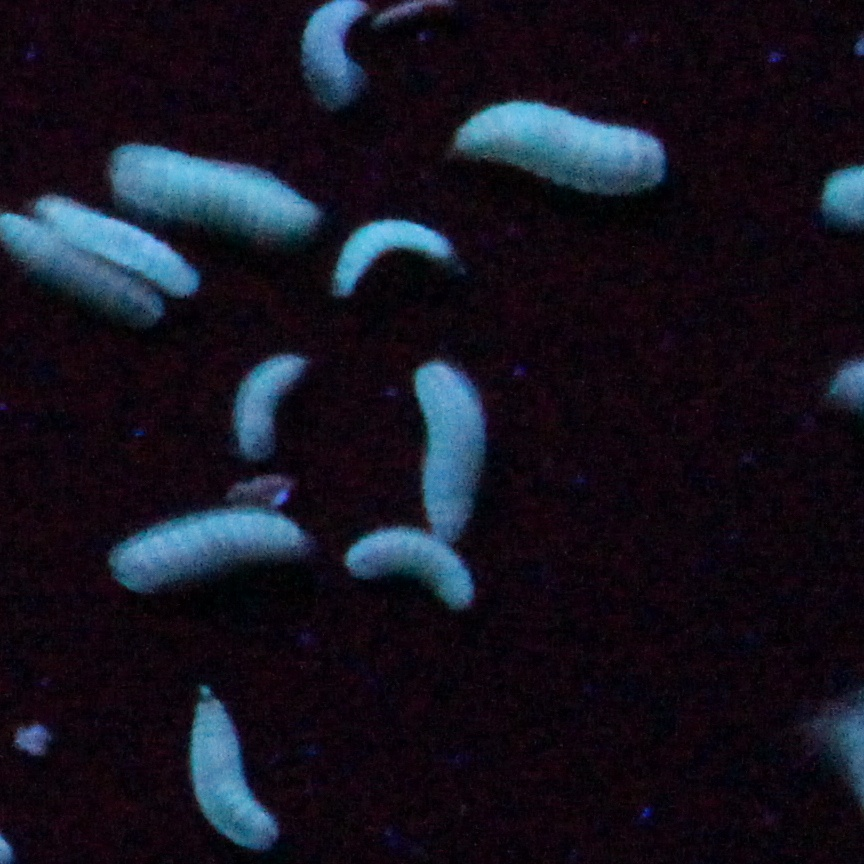larve: (445, 90, 663, 196), (109, 145, 324, 235), (34, 188, 198, 301), (112, 501, 306, 588), (171, 680, 273, 845), (414, 358, 483, 537), (343, 531, 473, 611), (334, 221, 457, 298), (237, 349, 309, 457)
